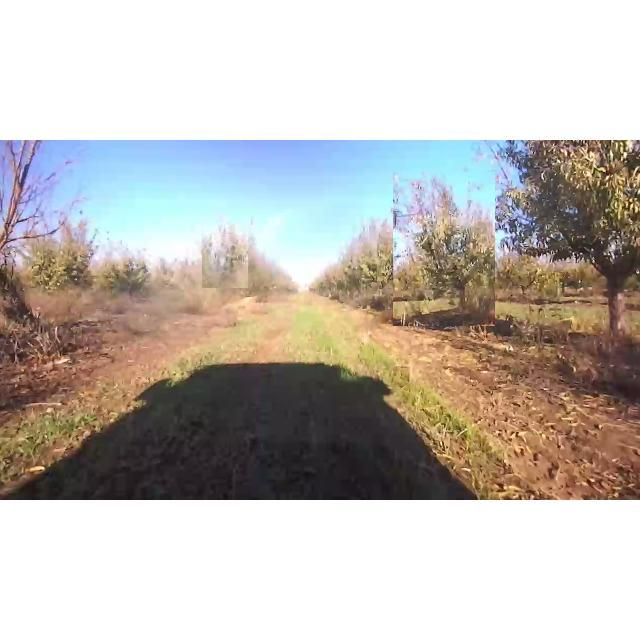direk: (484, 140, 640, 348), (393, 172, 495, 326), (0, 142, 60, 256), (371, 222, 409, 304), (202, 222, 248, 288)
